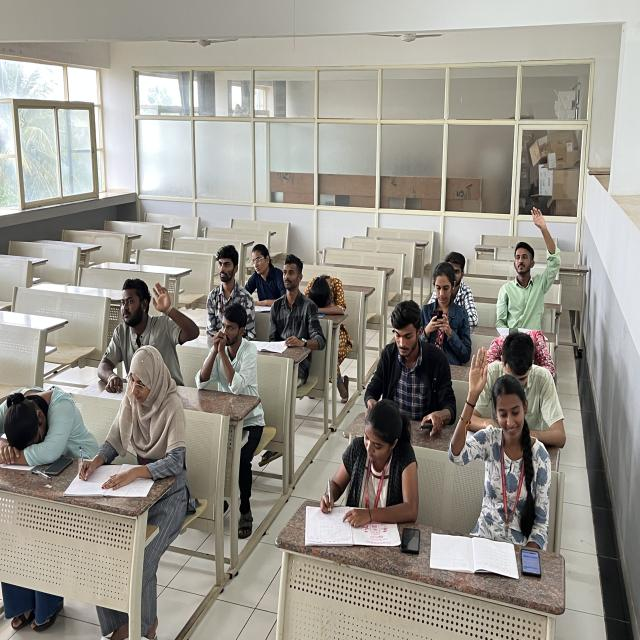Hand Rising: (453, 344, 555, 513), (497, 207, 565, 327), (110, 281, 192, 360)
Sleeping: (0, 380, 83, 456), (304, 269, 354, 318)
Using Phone: (365, 292, 456, 464), (418, 270, 476, 347)
Writing: (68, 344, 197, 530), (313, 402, 423, 536)
